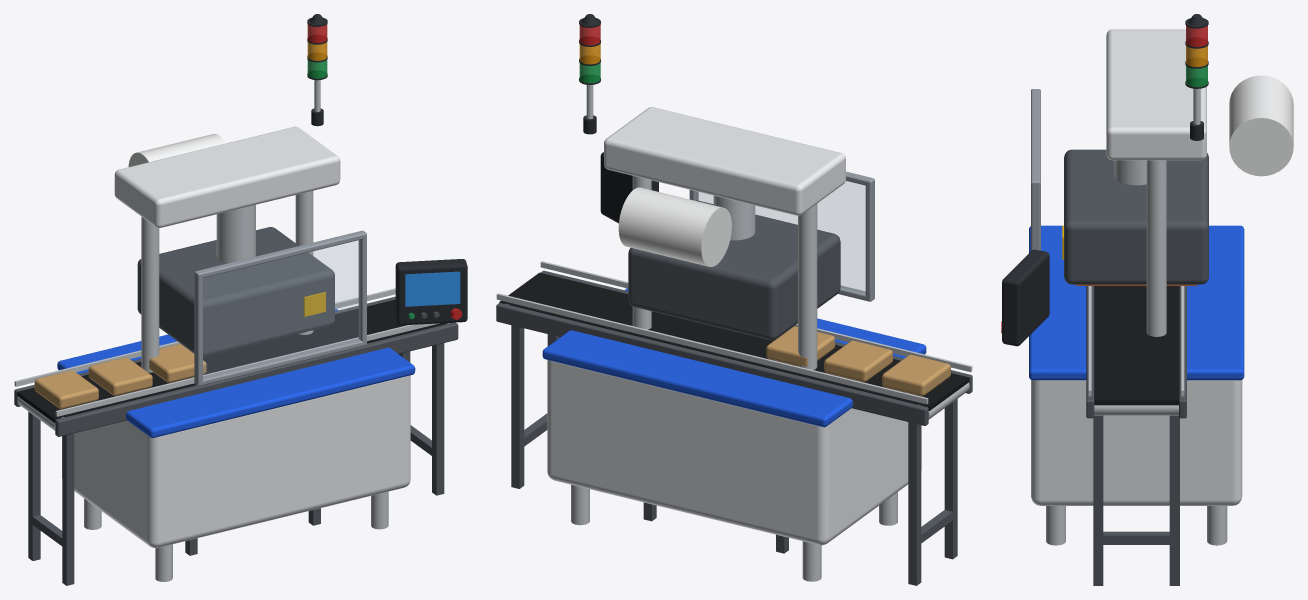
File: sealing-machine.glb
3 views of the same model, side by side, from view 1: azimuth 30°, elevation 25°; view 2: azimuth 150°, elevation 25°; view 3: azimuth 270°, elevation 25° (orthographic). The views are drawn at different scales.
Parts seen in each view (by area): view 1: sealing_machine_paint_white, sealing_machine_dark_steel, sealing_machine_glass, sealing_machine_steel, sealing_machine_accent_blue, sealing_machine_rubber, sealing_machine_paint_grey, sealing_machine_product, sealing_machine_graphite, sealing_machine_screen, sealing_machine_label; view 2: sealing_machine_paint_white, sealing_machine_dark_steel, sealing_machine_steel, sealing_machine_accent_blue, sealing_machine_rubber, sealing_machine_label, sealing_machine_product, sealing_machine_glass, sealing_machine_graphite, sealing_machine_paint_grey; view 3: sealing_machine_paint_white, sealing_machine_dark_steel, sealing_machine_accent_blue, sealing_machine_rubber, sealing_machine_steel, sealing_machine_label, sealing_machine_graphite, sealing_machine_paint_grey, andon_green, andon_amber, andon_red.
Part boxes in pixels (x1,y1,x2,y2): sealing_machine_paint_white: [62, 126, 410, 547]; sealing_machine_dark_steel: [14, 227, 458, 585]; sealing_machine_glass: [203, 240, 360, 378]; sealing_machine_steel: [14, 80, 449, 581]; sealing_machine_accent_blue: [57, 309, 415, 437]; sealing_machine_rubber: [17, 299, 451, 422]; sealing_machine_paint_grey: [194, 230, 366, 386]; sealing_machine_product: [34, 344, 206, 409]; sealing_machine_graphite: [307, 14, 467, 325]; sealing_machine_screen: [405, 271, 460, 306]; sealing_machine_label: [128, 133, 225, 166]; sealing_machine_paint_white: [547, 107, 921, 545]; sealing_machine_dark_steel: [496, 200, 972, 585]; sealing_machine_steel: [496, 85, 972, 581]; sealing_machine_accent_blue: [542, 288, 926, 427]; sealing_machine_rubber: [499, 272, 969, 410]; sealing_machine_label: [618, 187, 731, 266]; sealing_machine_product: [766, 326, 950, 396]; sealing_machine_glass: [696, 181, 865, 292]; sealing_machine_graphite: [579, 14, 658, 223]; sealing_machine_paint_grey: [689, 171, 874, 301]; sealing_machine_paint_white: [1031, 29, 1242, 505]; sealing_machine_dark_steel: [1064, 149, 1208, 585]; sealing_machine_accent_blue: [1029, 225, 1244, 380]; sealing_machine_rubber: [1094, 286, 1178, 405]; sealing_machine_steel: [1046, 88, 1227, 545]; sealing_machine_label: [1229, 75, 1293, 176]; sealing_machine_graphite: [1002, 14, 1208, 346]; sealing_machine_paint_grey: [1031, 89, 1040, 250]; andon_green: [1186, 66, 1207, 86]; andon_amber: [1186, 46, 1207, 66]; andon_red: [1186, 26, 1207, 46].
Size of the model in its own units: 2.6 by 2.88 by 1.45.
